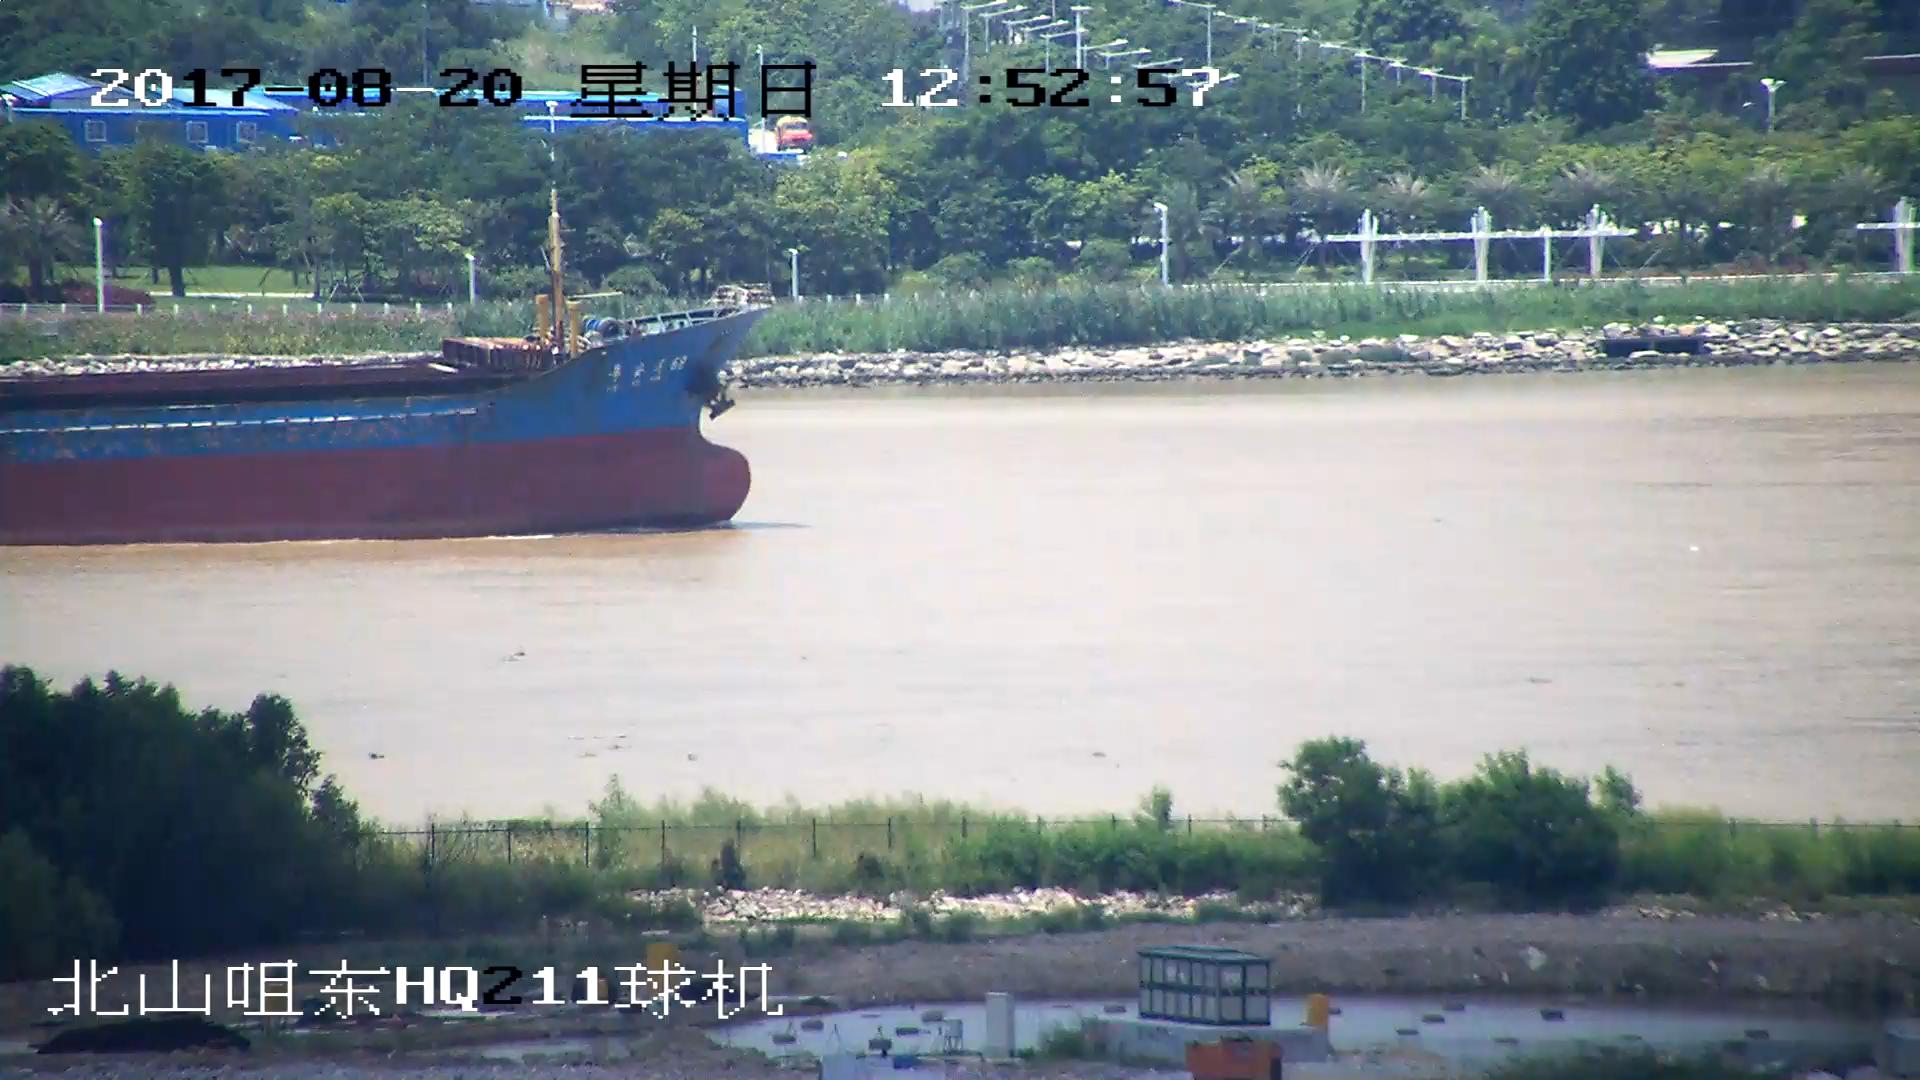general cargo ship: (1, 295, 776, 543)
